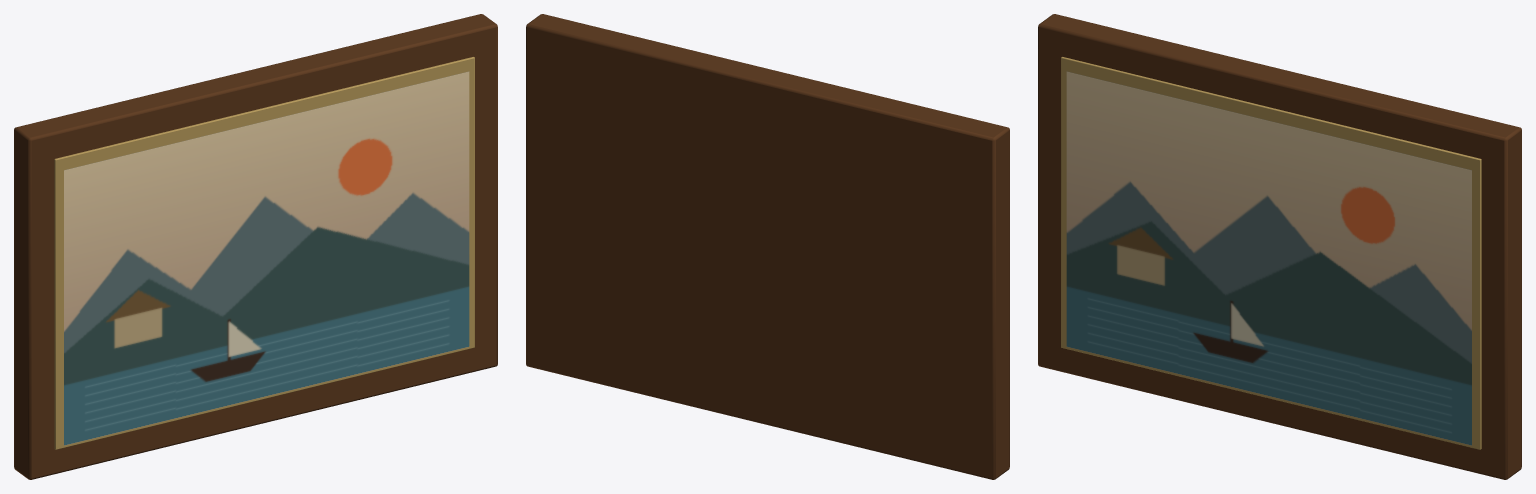
Rendered from TranhSonThuy_Khung.glb.
3 renders of one model, left to right at view 1: azimuth 30°, elevation 25°; view 2: azimuth 150°, elevation 25°; view 3: azimuth 330°, elevation 25°, orthographic.
Parts seen in each view (by area): view 1: TranhSonThuy_Khung; view 2: TranhSonThuy_Khung; view 3: TranhSonThuy_Khung.
Boxes of the visible parts, <box> form: TranhSonThuy_Khung: <box>14,14,497,479</box>; TranhSonThuy_Khung: <box>526,14,1009,479</box>; TranhSonThuy_Khung: <box>1038,14,1521,479</box>.
Size of the model in its own units: 0.66 by 0.46 by 0.046.
3 materials, 1 textured.
